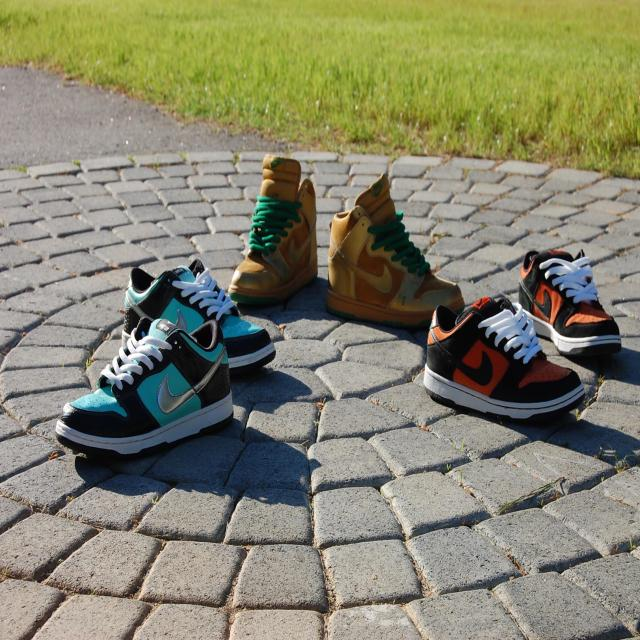shoe: (51, 307, 240, 462), (320, 164, 472, 328), (422, 288, 588, 436), (122, 254, 280, 382), (228, 144, 324, 318), (512, 238, 631, 374)
